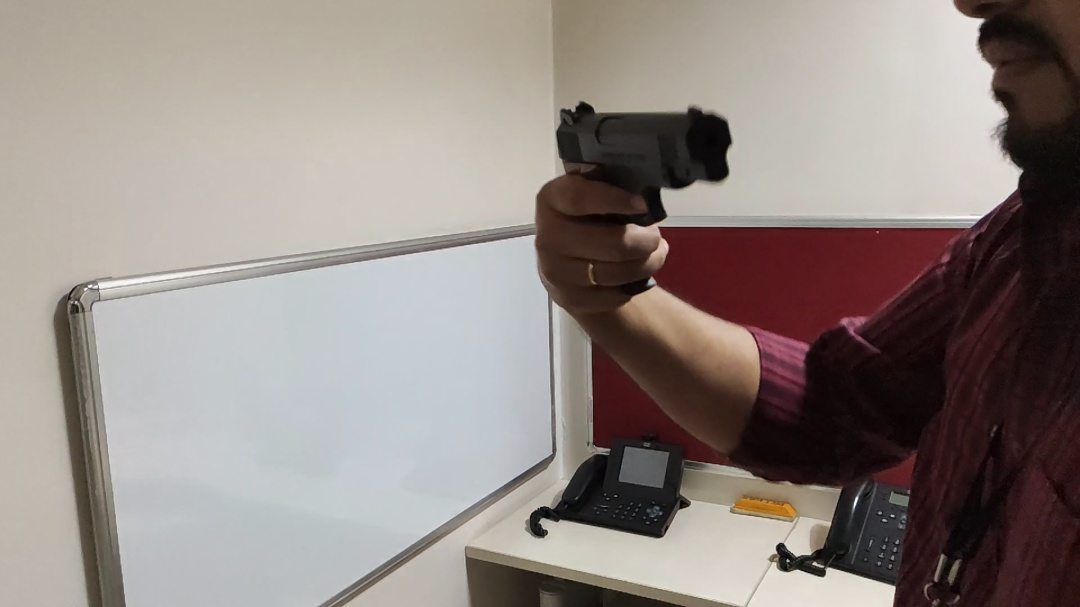gun: (530, 92, 741, 305)
